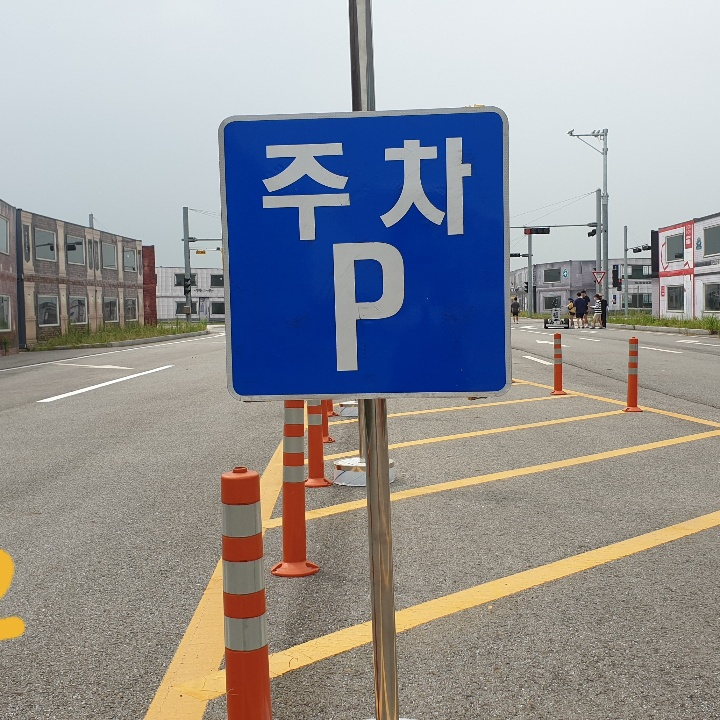parking: (320, 233, 413, 376)
